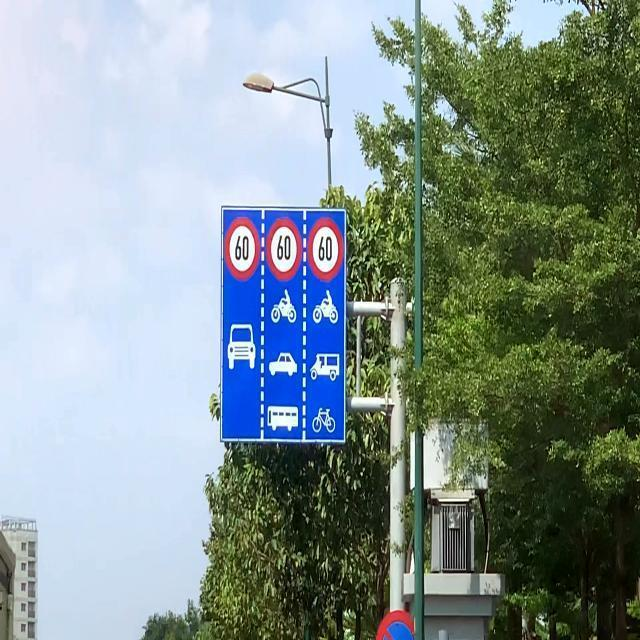127-toc-do-toi-da-60: (307, 220, 345, 280), (266, 220, 302, 280), (225, 219, 259, 279)
